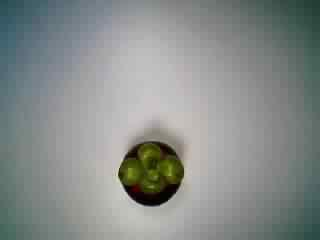mangosteen: (113, 137, 187, 209)
